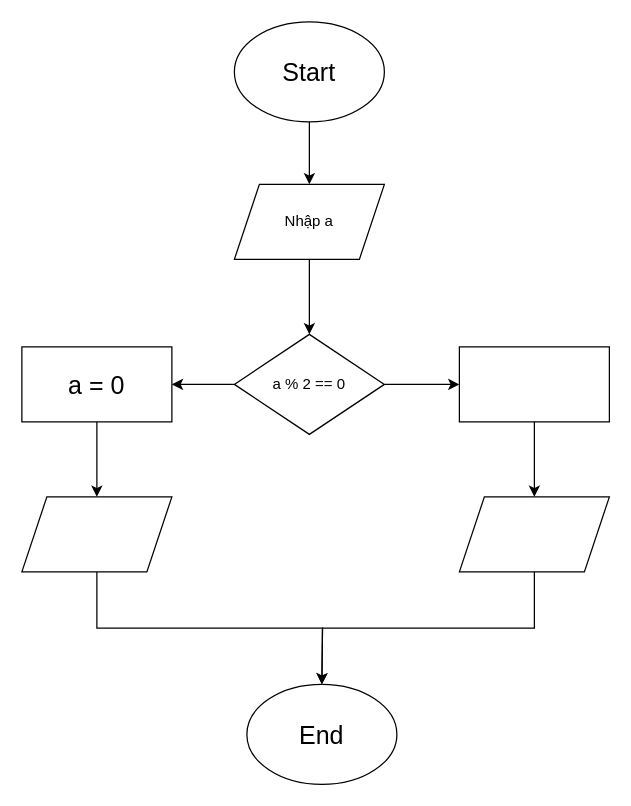
This 631x806 diagram has some shape labels left out. Each missing label, with the box of its shape:
a khác 0: (458, 346, 609, 422)
Số chẵn: (21, 496, 172, 572)
Số lẻ: (458, 496, 609, 572)
